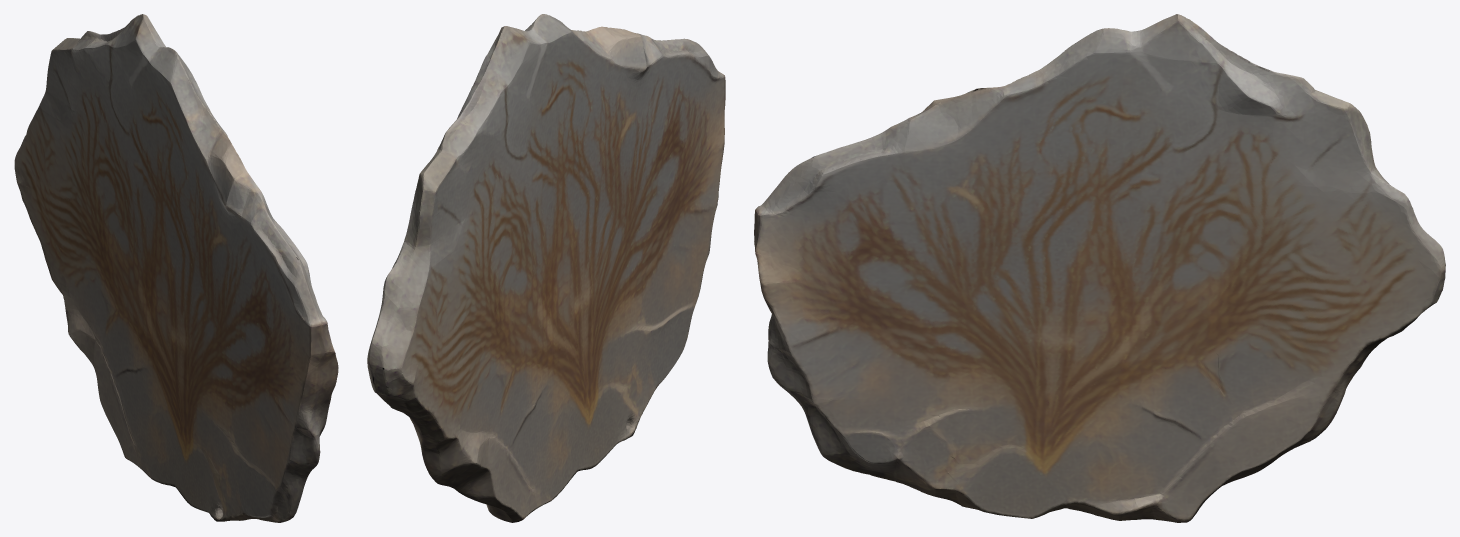
3 renders of one model, left to right at view 1: azimuth 30°, elevation 25°; view 2: azimuth 150°, elevation 25°; view 3: azimuth 270°, elevation 25°, orthographic. The views are drawn at different scales.
Visible parts, largest first — view 1: world; view 2: world; view 3: world.
Part boxes in pixels (<box>): world: <box>14,14,338,522</box>; world: <box>367,14,725,522</box>; world: <box>754,14,1445,522</box>.
Size of the model in its own units: 0.0715 by 0.8079 by 0.995.
Materials: 1 (1 with a texture image).
